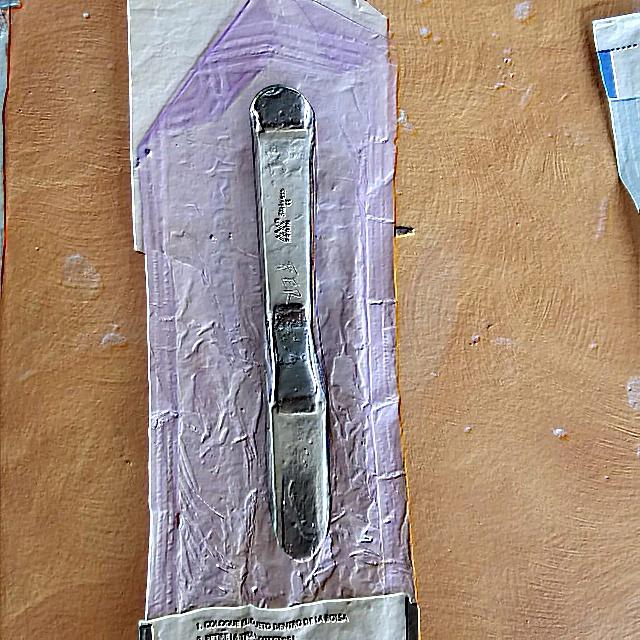separador: (250, 85, 331, 562)
